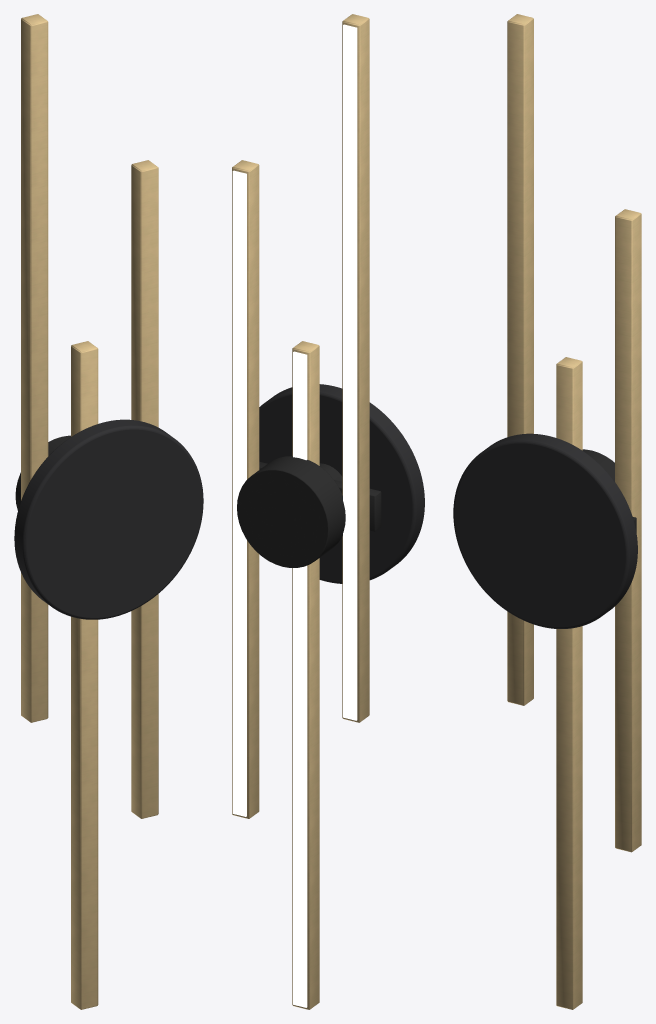
The model's file is modern-linear-wall-lamp-minimalist-2-color-metal-wall-ligh.glb.
The picture shows the model from 3 angles, left to right: view 1: azimuth 30°, elevation 25°; view 2: azimuth 150°, elevation 25°; view 3: azimuth 330°, elevation 25°; orthographic projection. The views are drawn at different scales.
Parts seen in each view (by area): view 1: Disc, BarLeft, BarCentre, BarRight; view 2: Disc, BarLeftDiffuser, BarLeft, WallHub, BarRightDiffuser, BarRight, BarCentreDiffuser, BarCentre, BarBracket; view 3: Disc, BarRight, BarLeft, BarCentre.
Part boxes in pixels (x1,y1,x2,y2): Disc: [14, 419, 203, 619]; BarLeft: [21, 14, 48, 722]; BarCentre: [71, 341, 98, 1009]; BarRight: [131, 160, 158, 818]; Disc: [259, 384, 424, 583]; BarLeftDiffuser: [343, 24, 357, 720]; BarLeft: [342, 14, 369, 722]; WallHub: [237, 456, 345, 567]; BarRightDiffuser: [232, 170, 246, 816]; BarRight: [232, 160, 259, 818]; BarCentreDiffuser: [293, 351, 307, 1007]; BarCentre: [292, 341, 319, 1009]; BarBracket: [259, 461, 381, 531]; Disc: [453, 433, 637, 628]; BarRight: [615, 209, 641, 852]; BarLeft: [507, 14, 533, 705]; BarCentre: [556, 357, 582, 1009].
Bounding box in the file's own units: 0.1194 × 0.6299 × 0.061.
Materials: 4 (3 with a texture image).
